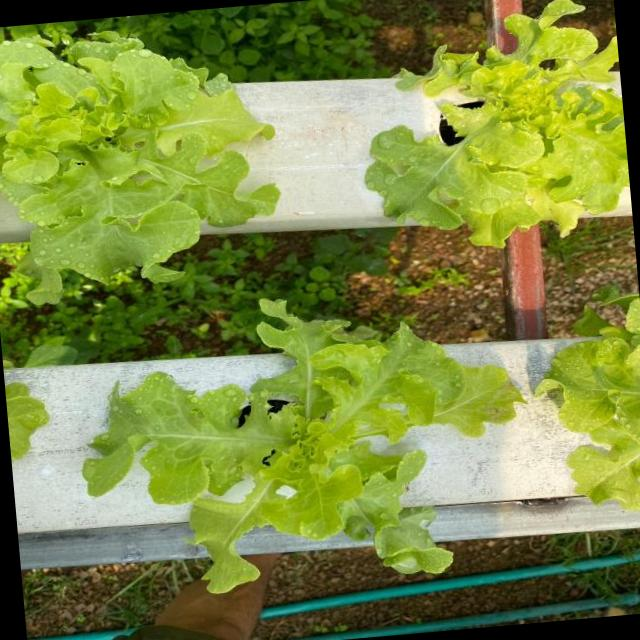Lettuce-Not-Ready-to-Harvest: (83, 300, 521, 593), (0, 32, 279, 303), (366, 0, 629, 246)
